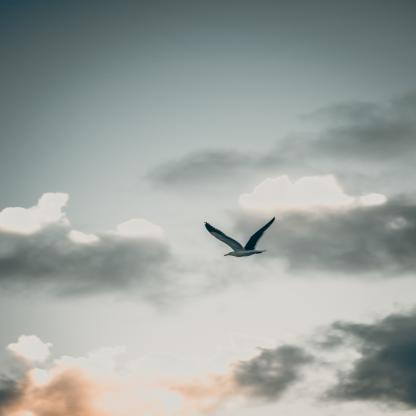bird: (205, 217, 275, 257)
